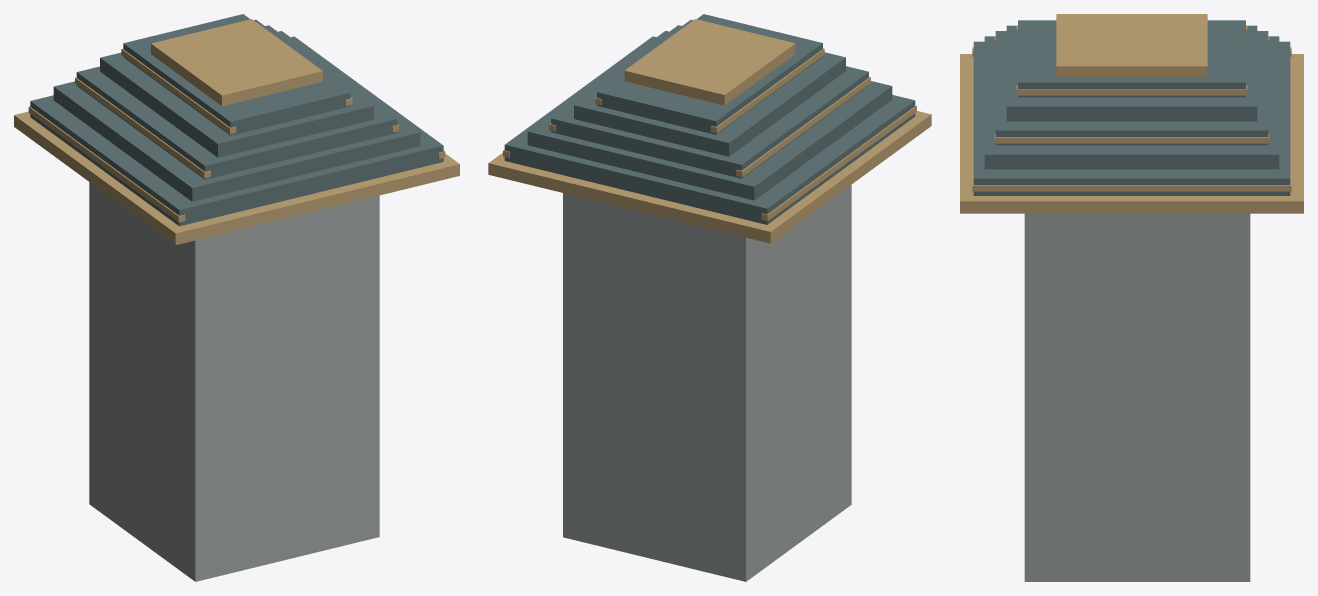
Rendered from watchtower.glb.
3 renders of one model, left to right at view 1: azimuth 30°, elevation 25°; view 2: azimuth 150°, elevation 25°; view 3: azimuth 270°, elevation 25°, orthographic. The views are drawn at different scales.
Parts seen in each view (by area): view 1: watchtower_00_wall, watchtower_03_roof_courses, watchtower_05_upper_ridge, watchtower_02_eaves, watchtower_04_ridge_trim; view 2: watchtower_00_wall, watchtower_03_roof_courses, watchtower_05_upper_ridge, watchtower_02_eaves, watchtower_04_ridge_trim; view 3: watchtower_00_wall, watchtower_03_roof_courses, watchtower_02_eaves, watchtower_05_upper_ridge, watchtower_04_ridge_trim.
Part boxes in pixels (x1,y1,x2,y2): watchtower_00_wall: [89, 182, 379, 581]; watchtower_03_roof_courses: [30, 14, 443, 226]; watchtower_05_upper_ridge: [151, 19, 322, 106]; watchtower_02_eaves: [14, 111, 459, 244]; watchtower_04_ridge_trim: [28, 48, 445, 222]; watchtower_00_wall: [563, 185, 851, 581]; watchtower_03_roof_courses: [504, 14, 915, 224]; watchtower_05_upper_ridge: [624, 19, 795, 105]; watchtower_02_eaves: [488, 111, 931, 243]; watchtower_04_ridge_trim: [503, 48, 916, 220]; watchtower_00_wall: [1024, 213, 1250, 581]; watchtower_03_roof_courses: [973, 20, 1290, 195]; watchtower_02_eaves: [960, 54, 1303, 213]; watchtower_05_upper_ridge: [1056, 14, 1207, 77]; watchtower_04_ridge_trim: [972, 26, 1291, 191].
Size of the model in its own units: 7.1 by 11.1 by 7.
